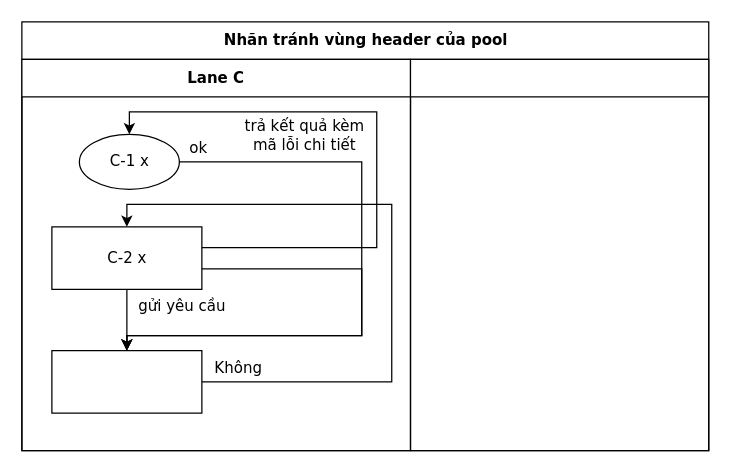
The diagram is 731 pixels wide and 473 high, and some of its shapes have lost their labels. The centre of each missing label's shape, as x and y in pixels:
"Bộ phận xử lý nghiệp vụ D kéo dài" belongs at point (559, 254).
"C-3 x" belongs at point (126, 381).
